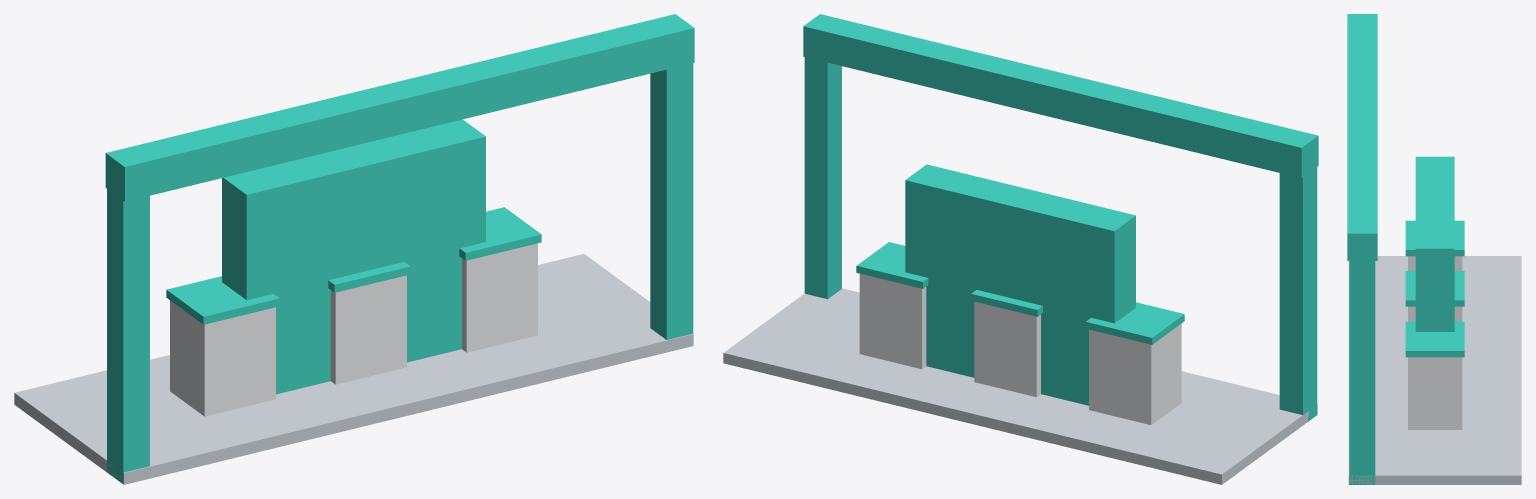
3 views of the same model, side by side, from view 1: azimuth 30°, elevation 25°; view 2: azimuth 150°, elevation 25°; view 3: azimuth 270°, elevation 25° (orthographic). The views are drawn at different scales.
Visible parts, largest first — view 1: Exhibition Booth Concept; view 2: Exhibition Booth Concept; view 3: Exhibition Booth Concept.
Boxes of the visible parts, bbox=[...] form: Exhibition Booth Concept: bbox=[14, 14, 694, 484]; Exhibition Booth Concept: bbox=[723, 14, 1318, 484]; Exhibition Booth Concept: bbox=[1347, 14, 1521, 484].
Size of the model in its own units: 6 by 3.2 by 2.01.
